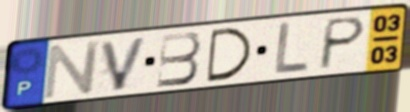B: (154, 30, 203, 90)
D: (205, 26, 256, 84)
L: (272, 20, 312, 75)
N: (41, 38, 103, 101)
P: (316, 15, 369, 72)
V: (98, 34, 151, 93)
